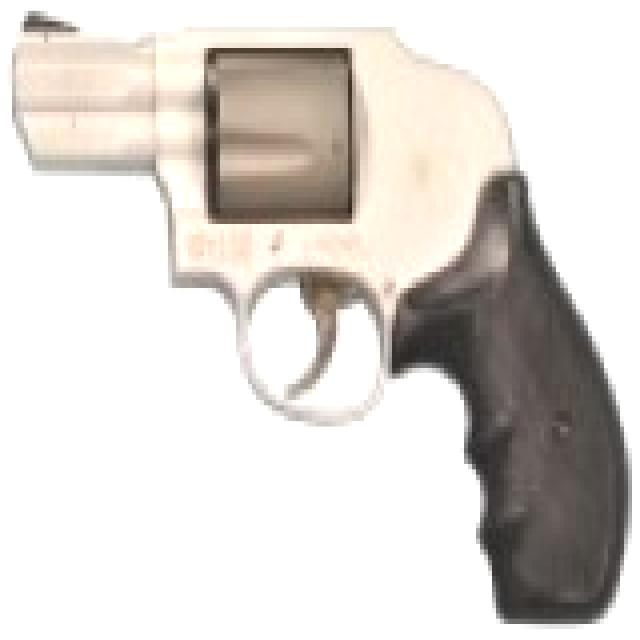pistol: (12, 11, 636, 608)
